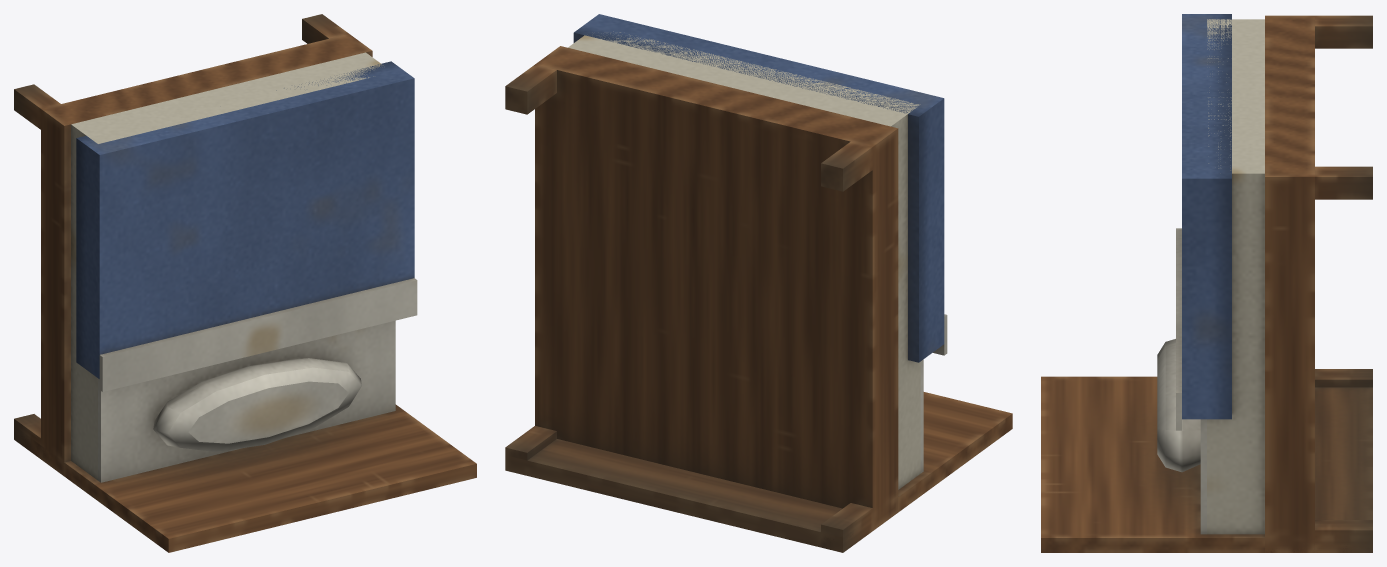
Rendered from bed_blue_head.obj.
3 renders of one model, left to right at view 1: azimuth 30°, elevation 25°; view 2: azimuth 150°, elevation 25°; view 3: azimuth 270°, elevation 25°, orthographic. The views are drawn at different scales.
Size of the model in its own units: 0.94 by 1 by 0.8.
Materials: 1 (1 with a texture image).
